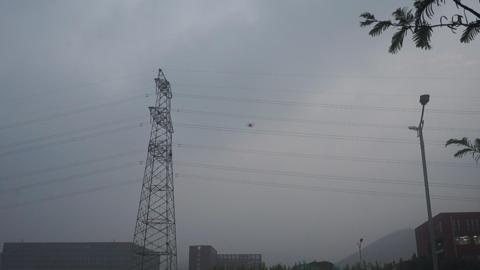UAV: (246, 122, 255, 128)
